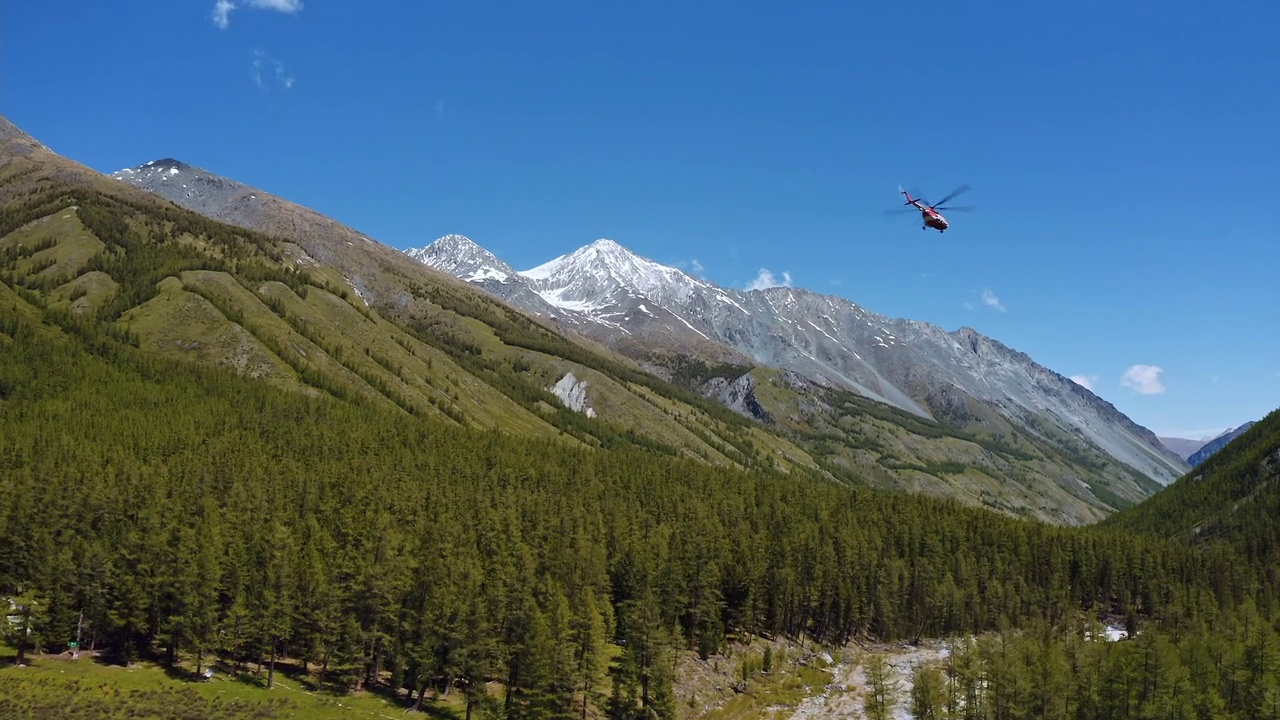heli: (898, 188, 975, 234)
